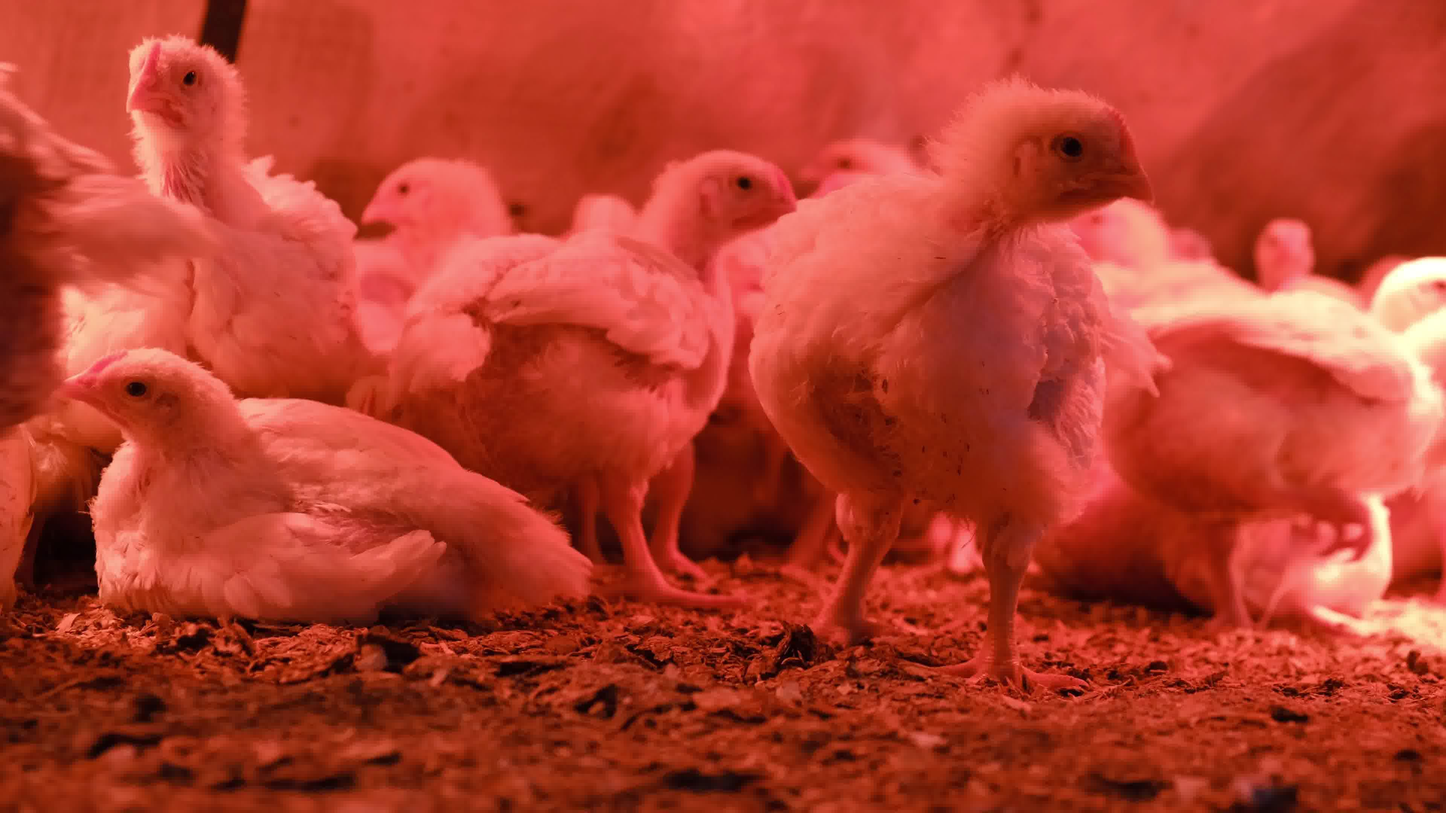AbNormal: (55, 349, 584, 616), (1153, 497, 1405, 634)
Normal: (747, 78, 1158, 687), (382, 149, 808, 604), (1102, 253, 1444, 638), (51, 36, 364, 366), (0, 61, 79, 431), (347, 157, 522, 265), (797, 132, 917, 184), (1256, 209, 1325, 294)
